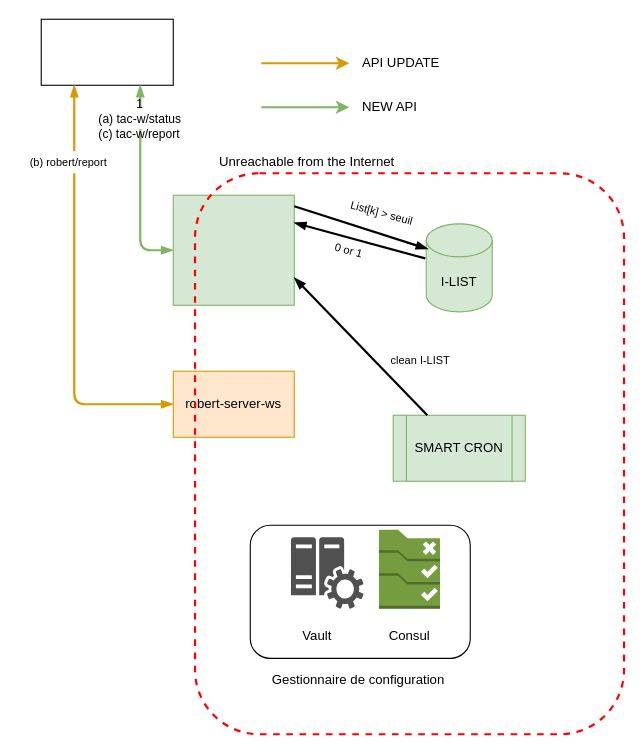
Some shapes in this 644 by 755 pixel diagram are drawn without their labels. Here are the shapes that lost their labels. From the top down, the box of each, then its label:
(40, 18, 173, 85): TAC APP
(172, 194, 294, 305): TAC-W-server-ws
